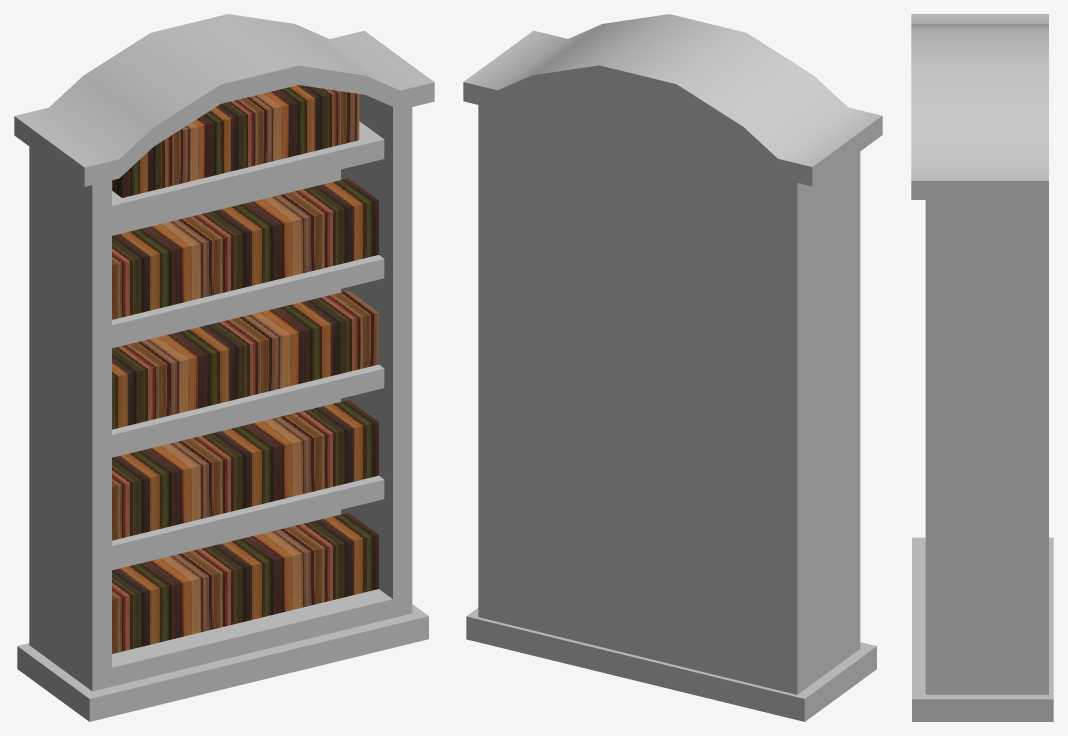
Rendered from Bookshelf_3.fbx.
3 views of the same model, side by side, from view 1: azimuth 30°, elevation 25°; view 2: azimuth 150°, elevation 25°; view 3: azimuth 270°, elevation 25° (orthographic). The views are drawn at different scales.
Visible parts, largest first — view 1: Cube.005; view 2: Cube.005; view 3: Cube.005.
Part boxes in pixels (x1=…): Cube.005: x1=14, y1=14, x2=434, y2=721; Cube.005: x1=463, y1=14, x2=882, y2=721; Cube.005: x1=911, y1=14, x2=1053, y2=721.
Size of the model in its own units: 132 by 218 by 47.45.
